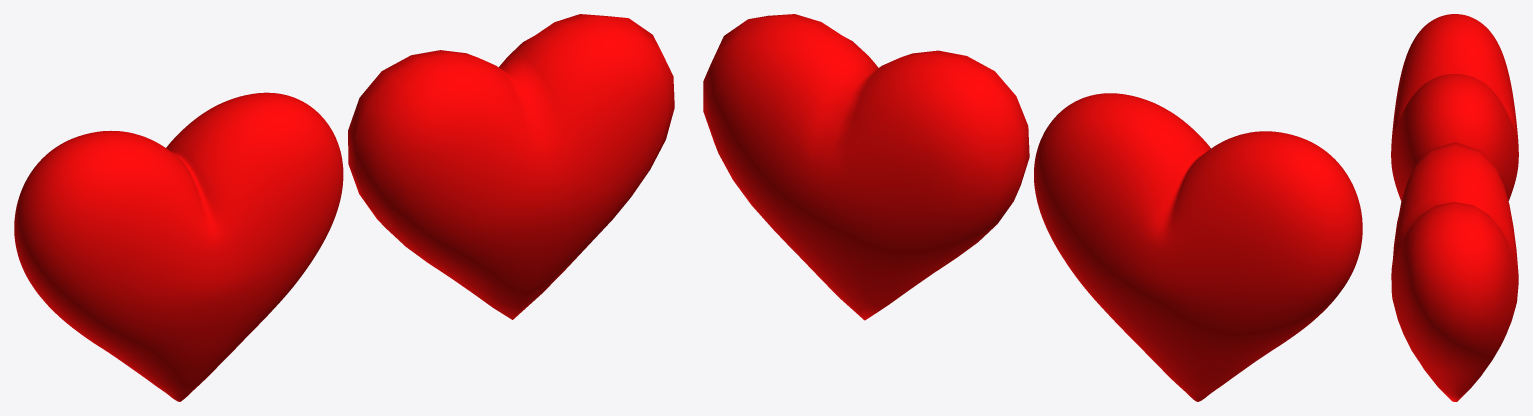
The model's file is Heart.glb.
3 renders of one model, left to right at view 1: azimuth 30°, elevation 25°; view 2: azimuth 150°, elevation 25°; view 3: azimuth 270°, elevation 25°, orthographic. The views are drawn at different scales.
Visible parts, largest first — view 1: Heart_02, Heart_01; view 2: Heart_02, Heart_01; view 3: Heart_01, Heart_02.
Part boxes in pixels (x1,y1,x2,y2): Heart_02: [14, 92, 343, 401]; Heart_01: [348, 14, 674, 319]; Heart_02: [1034, 93, 1362, 401]; Heart_01: [703, 14, 1029, 320]; Heart_01: [1391, 142, 1518, 401]; Heart_02: [1391, 14, 1518, 200].
Bounding box in the file's own units: 0.3895 × 0.163 × 0.0846.
